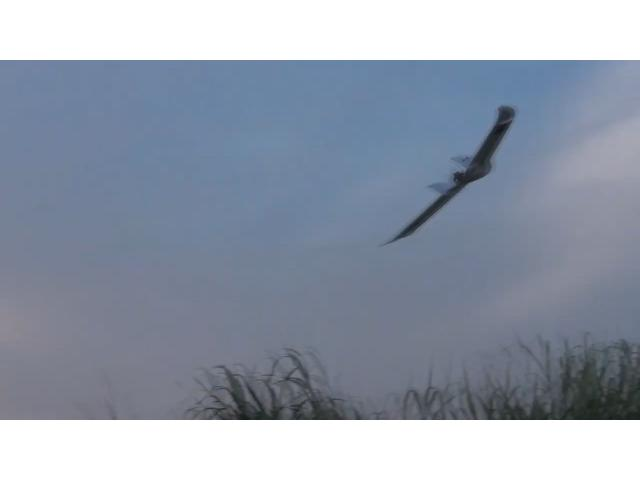Anti-Drone: (382, 107, 514, 245)
